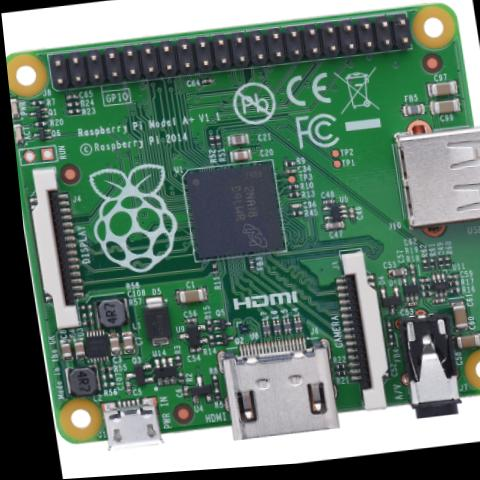Raspberry-Pi-1-Model-A-: (2, 0, 480, 461)
